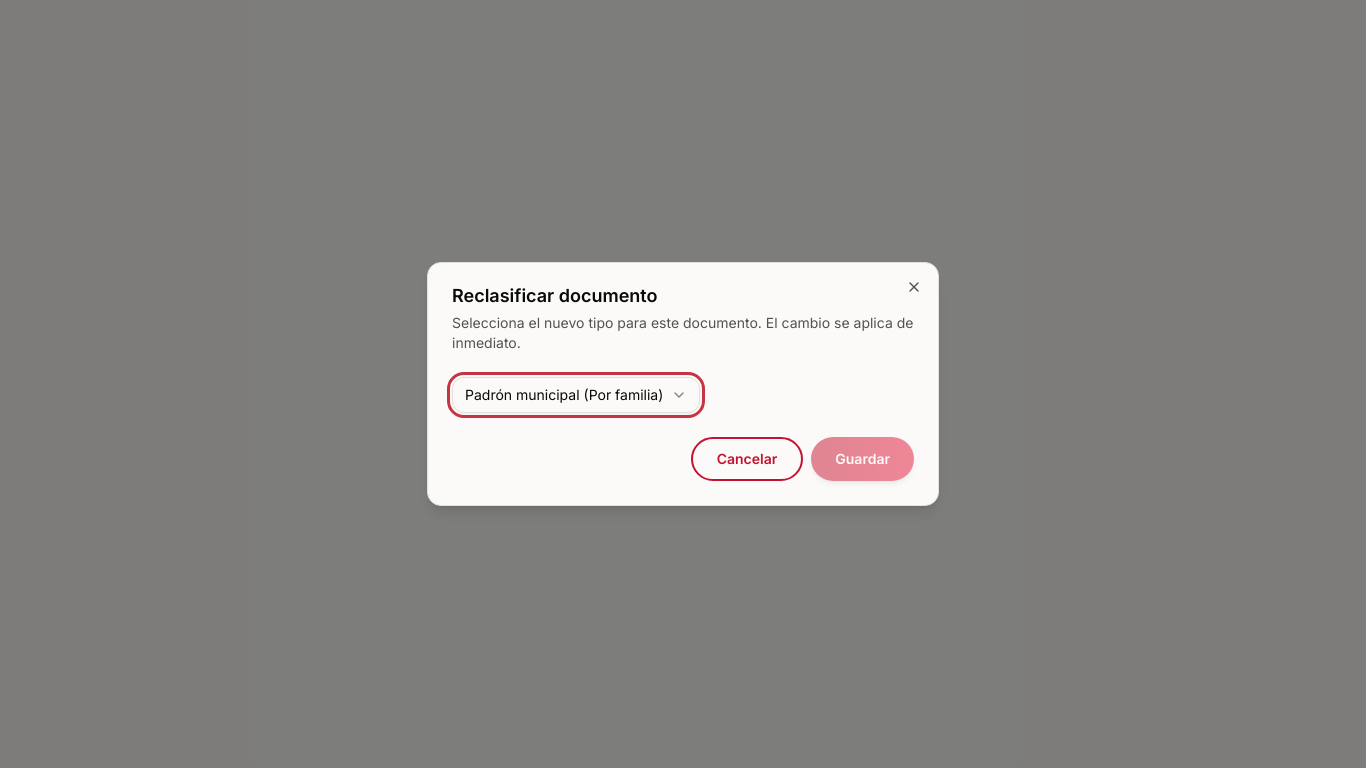
Test: ClassifyModal › 5. picking a different tipo enables Guardar
Click the dropdown named "nuevo tipo".
click(576, 395)  # box [452,377,700,413]
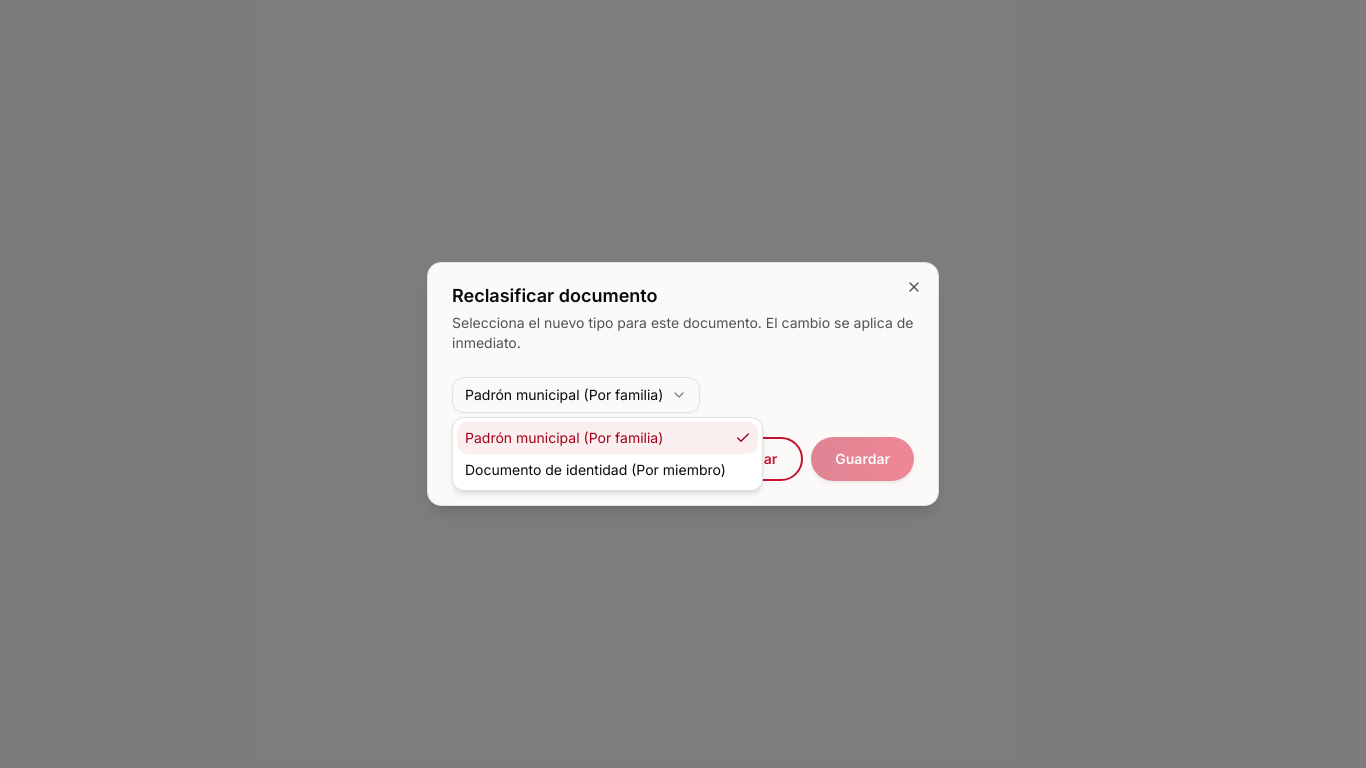
Click the option "Documento de identidad (Por miembro)".
click(595, 470)  # box [465,461,726,478]
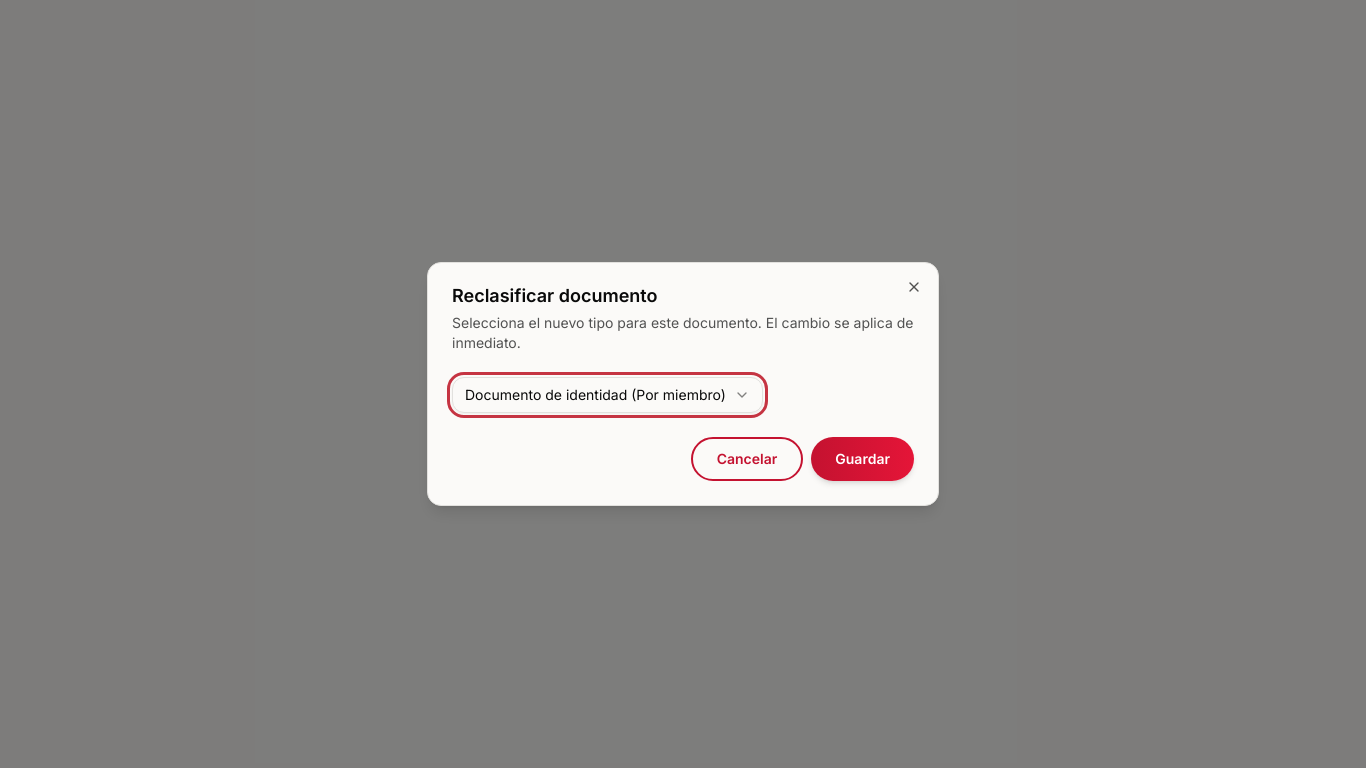
Result: the button "Guardar" is enabled at [811,437,914,481]
